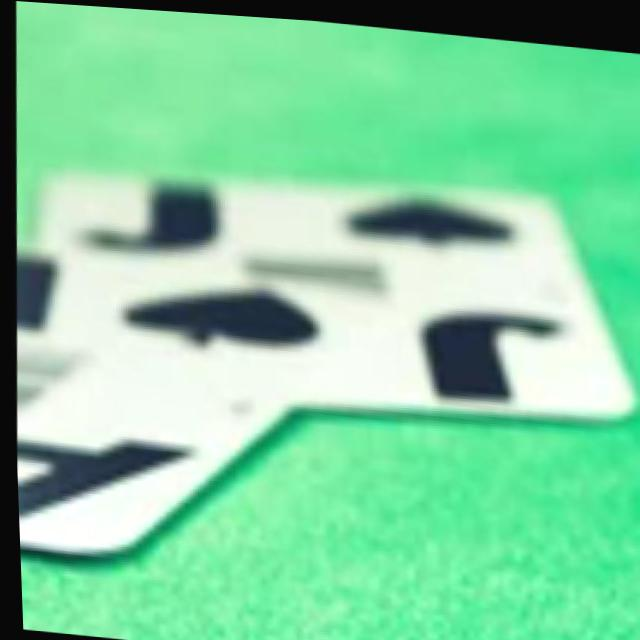Card-A: (13, 242, 290, 553)
Card-J: (56, 170, 633, 407)
